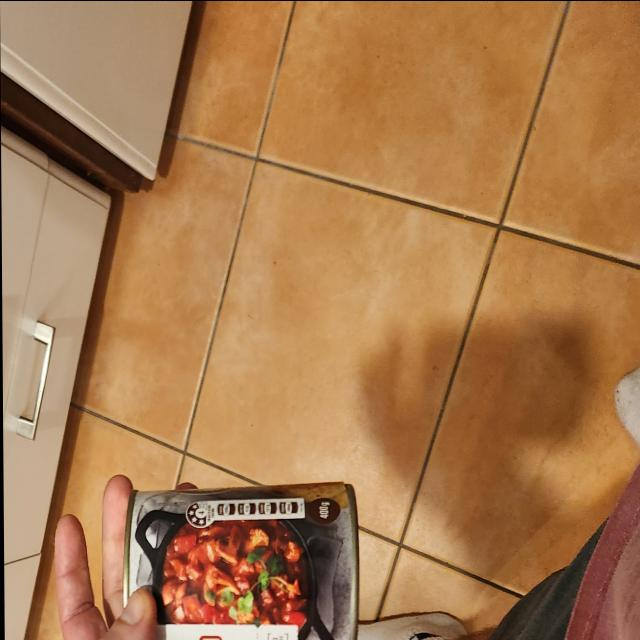tomato puree: (121, 480, 361, 640)
